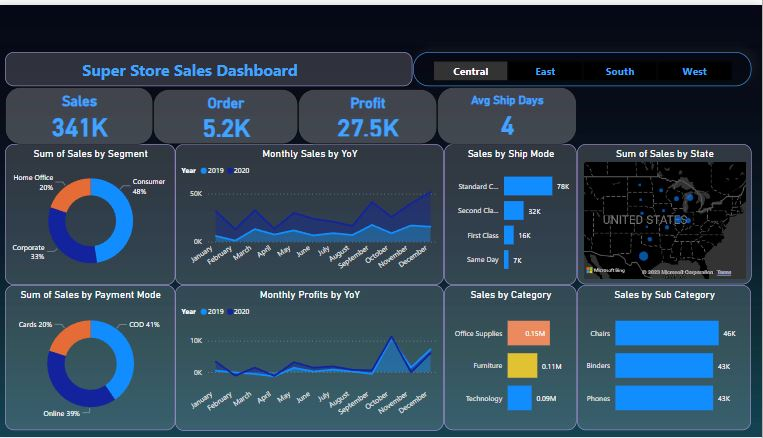

What the dashboard file says about the page in this screenshot:
{"tool":"powerbi","page":{"name":"Sales Dashboard","canvas":[1280,720],"ordinal":0},"visuals":[{"type":"clusteredBarChart","title":"Sales by Category","fields":{"Category":["SuperStore_Sales_Dataset.Category"],"Y":["Sum(SuperStore_Sales_Dataset.Sales)"]},"box":[749.9,466.4,221.4,241.6],"z":0},{"type":"clusteredBarChart","title":"Sales by Sub Category","fields":{"Category":["SuperStore_Sales_Dataset.Sub-Category"],"Y":["Sum(SuperStore_Sales_Dataset.Sales)"]},"box":[971.3,466.4,290.2,241.6],"z":1000},{"type":"clusteredBarChart","title":"Sales by Ship Mode","fields":{"Category":["SuperStore_Sales_Dataset.Ship Mode"],"Y":["Sum(SuperStore_Sales_Dataset.Sales)"]},"box":[749.9,231.5,221.4,234.9],"z":2000},{"type":"stackedAreaChart","title":"Monthly Sales by YoY","fields":{"Y":["Sum(SuperStore_Sales_Dataset.Sales)"],"Category":["SuperStore_Sales_Dataset.Order Date.Variation.Date Hierarchy.Month","SuperStore_Sales_Dataset.Order Date.Variation.Date Hierarchy.Day"],"Series":["SuperStore_Sales_Dataset.Order Date.Variation.Date Hierarchy.Year"]},"box":[302,231.5,447.9,234.9],"z":3000},{"type":"stackedAreaChart","title":"Monthly Profits by YoY","fields":{"Category":["SuperStore_Sales_Dataset.Order Date.Variation.Date Hierarchy.Month","SuperStore_Sales_Dataset.Order Date.Variation.Date Hierarchy.Day"],"Series":["SuperStore_Sales_Dataset.Order Date.Variation.Date Hierarchy.Year"],"Y":["Sum(SuperStore_Sales_Dataset.Profit)"]},"box":[302,466.4,447.9,243.3],"z":4000},{"type":"donutChart","fields":{"Category":["SuperStore_Sales_Dataset.Segment"],"Y":["Sum(SuperStore_Sales_Dataset.Sales)"]},"box":[18.5,231.5,283.5,234.9],"z":5000},{"type":"donutChart","fields":{"Category":["SuperStore_Sales_Dataset.Payment Mode"],"Y":["Sum(SuperStore_Sales_Dataset.Sales)"]},"box":[18.5,466.4,283.5,241.6],"z":6000},{"type":"slicer","fields":{"Values":["SuperStore_Sales_Dataset.Region"]},"box":[697.9,78.8,563.7,57],"z":7000},{"type":"textbox","box":[18.5,78.8,679.4,57],"z":8000},{"type":"card","title":"Sales","fields":{"Values":["Sum(SuperStore_Sales_Dataset.Sales)"]},"box":[18.5,135.9,246.6,95.6],"z":9000},{"type":"card","title":"Order","fields":{"Values":["Sum(SuperStore_Sales_Dataset.Quantity)"]},"box":[265.1,139.2,241.6,92.3],"z":10000},{"type":"card","title":"Profit","fields":{"Values":["Sum(SuperStore_Sales_Dataset.Profit)"]},"box":[506.6,139.2,231.5,92.3],"z":11000},{"type":"card","title":"Avg Ship Days","fields":{"Values":["Avg(SuperStore_Sales_Dataset.AVG delivery duration)"]},"box":[738.1,135.9,233.2,95.6],"z":12000},{"type":"map","fields":{"Category":["SuperStore_Sales_Dataset.State"],"Size":["Sum(SuperStore_Sales_Dataset.Sales)"]},"box":[971,232,291,234],"z":13000}]}

Visuals, with their boxes in screenshot pixels (x1, y1, x2, y2), scaled from the page's 1280x720 canvas onto the 763x438 screenshot:
"Sales by Category" clusteredBarChart: left=447, top=284, right=579, bottom=431
"Sales by Sub Category" clusteredBarChart: left=579, top=284, right=752, bottom=431
"Sales by Ship Mode" clusteredBarChart: left=447, top=141, right=579, bottom=284
"Monthly Sales by YoY" stackedAreaChart: left=180, top=141, right=447, bottom=284
"Monthly Profits by YoY" stackedAreaChart: left=180, top=284, right=447, bottom=432
donutChart - SuperStore_Sales_Dataset.Segment x Sum(SuperStore_Sales_Dataset.Sales): left=11, top=141, right=180, bottom=284
donutChart - SuperStore_Sales_Dataset.Payment Mode x Sum(SuperStore_Sales_Dataset.Sales): left=11, top=284, right=180, bottom=431
slicer - SuperStore_Sales_Dataset.Region: left=416, top=48, right=752, bottom=83
textbox: left=11, top=48, right=416, bottom=83
"Sales" card: left=11, top=83, right=158, bottom=141
"Order" card: left=158, top=85, right=302, bottom=141
"Profit" card: left=302, top=85, right=440, bottom=141
"Avg Ship Days" card: left=440, top=83, right=579, bottom=141
map - SuperStore_Sales_Dataset.State x Sum(SuperStore_Sales_Dataset.Sales): left=579, top=141, right=752, bottom=283
